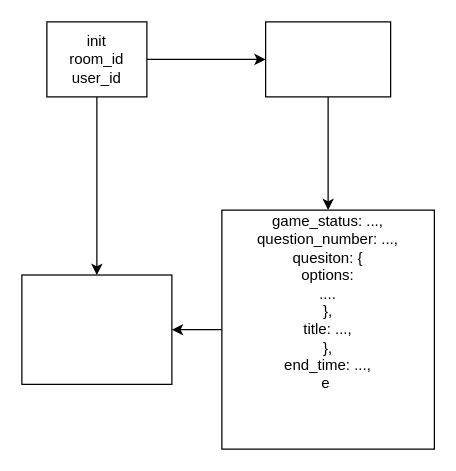
This 456x471 diagram has some shape labels left out. The centre of each missing label's shape, as x and y in pixels:
checkGameStatus: the point at 327,59
user_id: ..., game _id: ..., question_id: ..., answer_id: ..., answer_time: ...,: the point at 96,329
